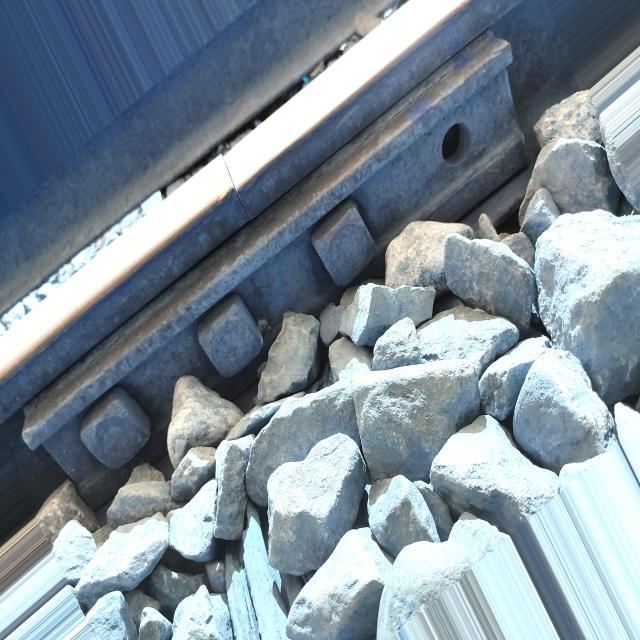Defective Joint: (22, 28, 529, 521)
